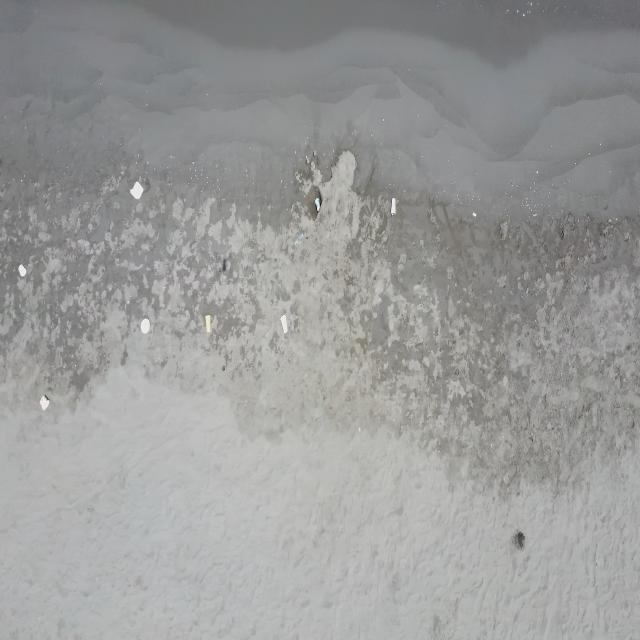take-away-containers: (130, 180, 144, 201), (39, 395, 50, 411), (141, 318, 150, 334), (18, 263, 27, 278)
takeaway-cup: (293, 231, 305, 247), (280, 314, 289, 334), (389, 197, 396, 216), (205, 314, 211, 334), (314, 196, 321, 213)
